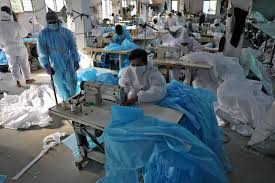mask: (126, 51, 148, 81), (44, 14, 60, 31), (178, 37, 189, 49), (113, 24, 123, 37), (213, 21, 221, 31), (166, 10, 174, 18), (152, 17, 160, 23)
